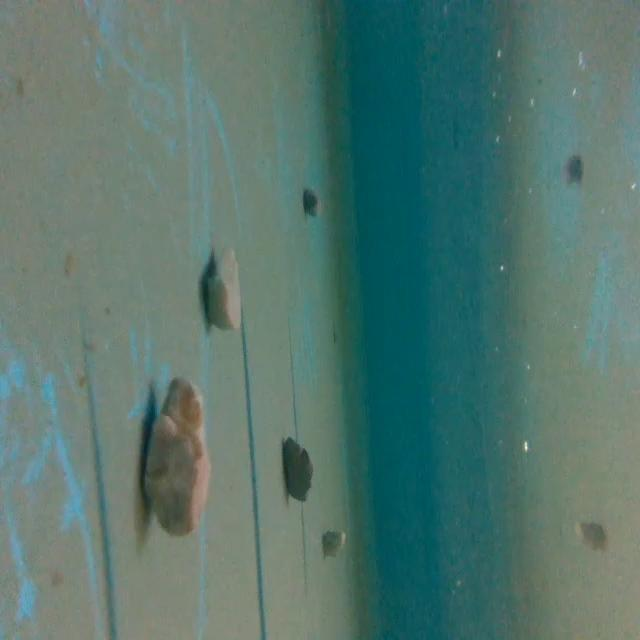rock: (143, 369, 215, 539), (201, 240, 246, 337), (277, 427, 316, 502)
